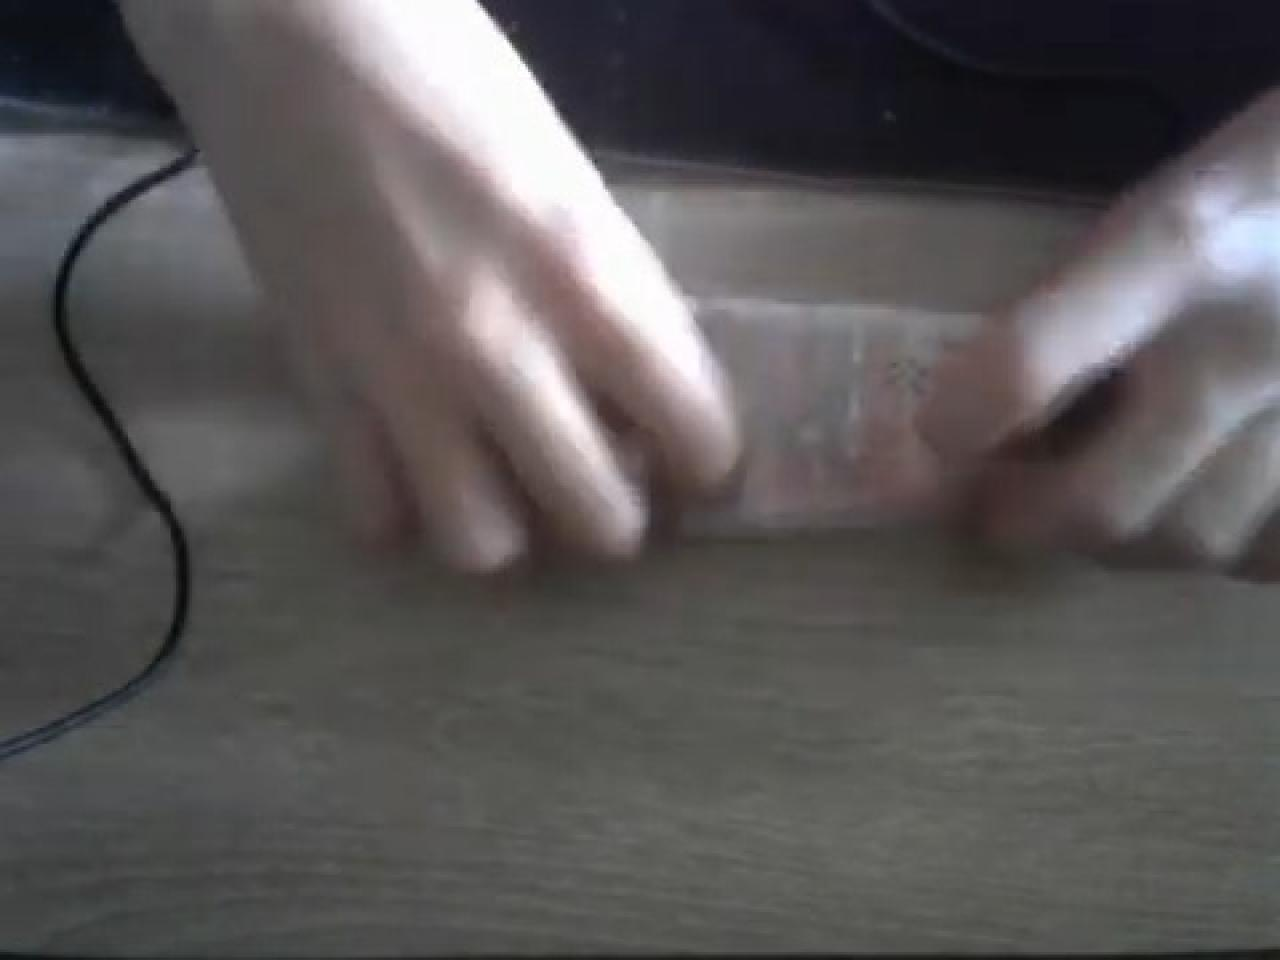5leva: (693, 296, 974, 525)
